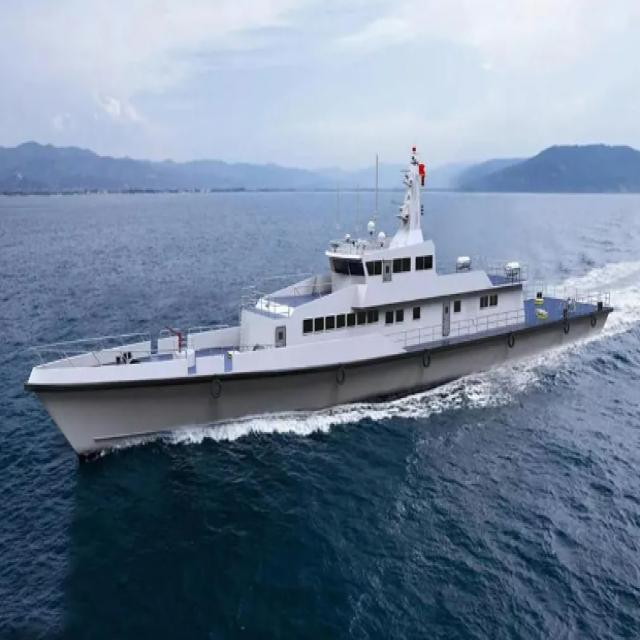houseboat: (31, 129, 606, 430)
